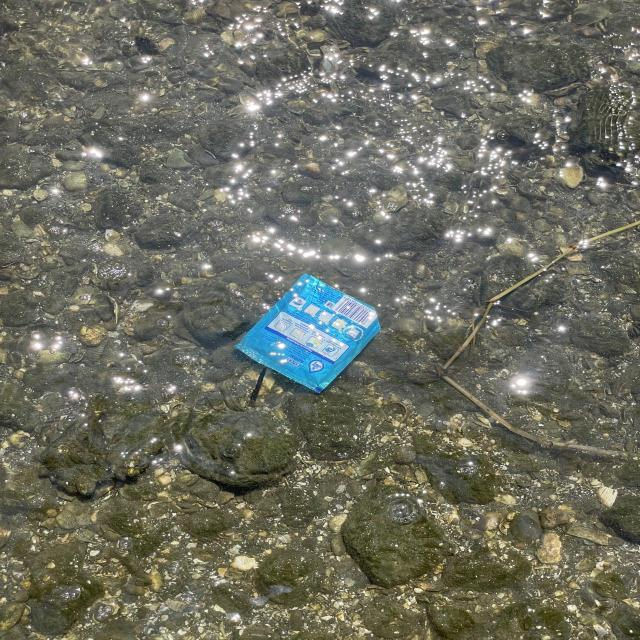plastic_waste: (236, 274, 383, 396)
